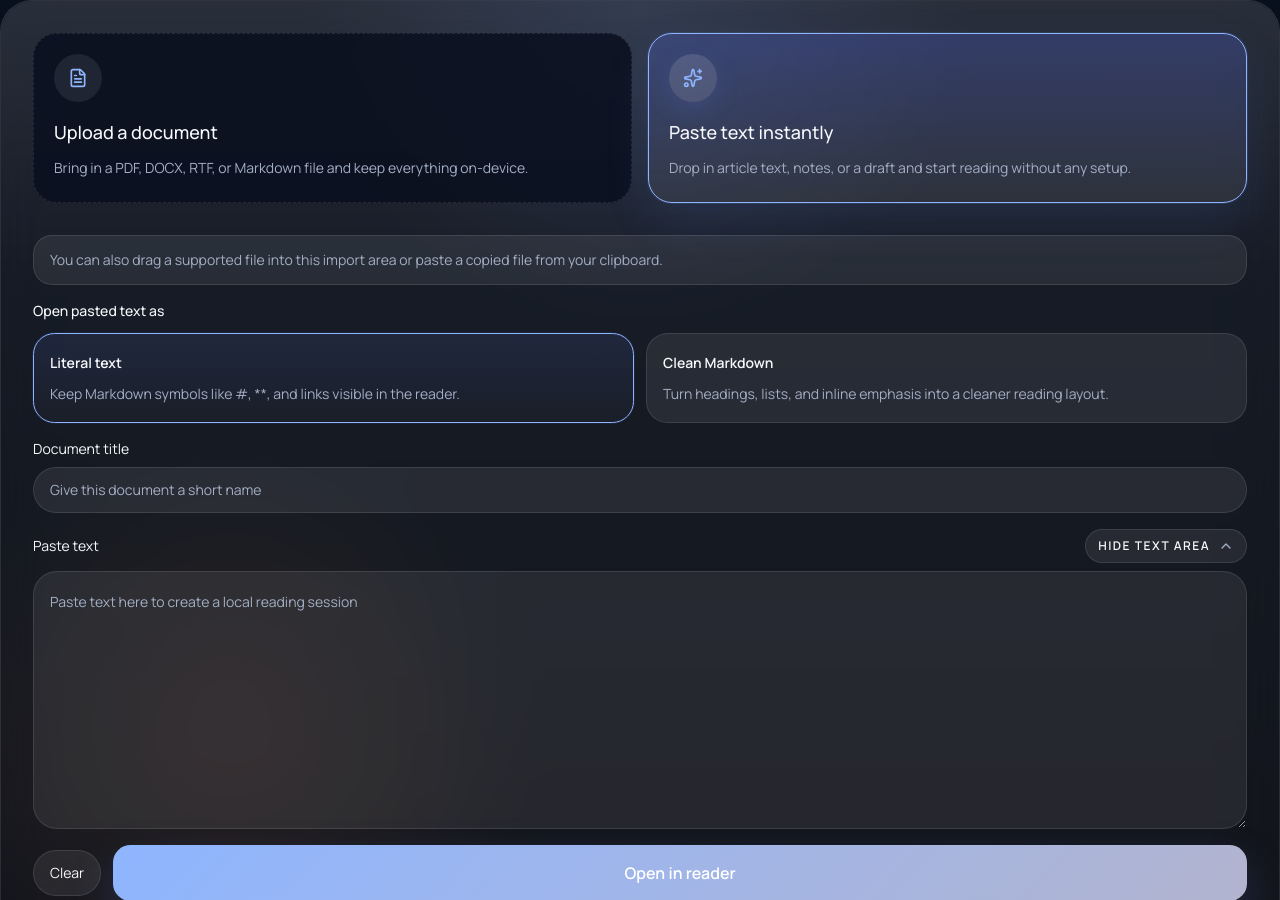
Test: UploadPanel › shows the saved goal as a recommended start before opening the reader
The width and height of the screenshot is (1280, 900).
Type "Dense reading rewards a calmer interface." into the text box labelled "Paste text".
click(640, 700); type("Dense reading rewards a calmer interface.")  # box 33,571 -> 1247,829
(page scrolled)
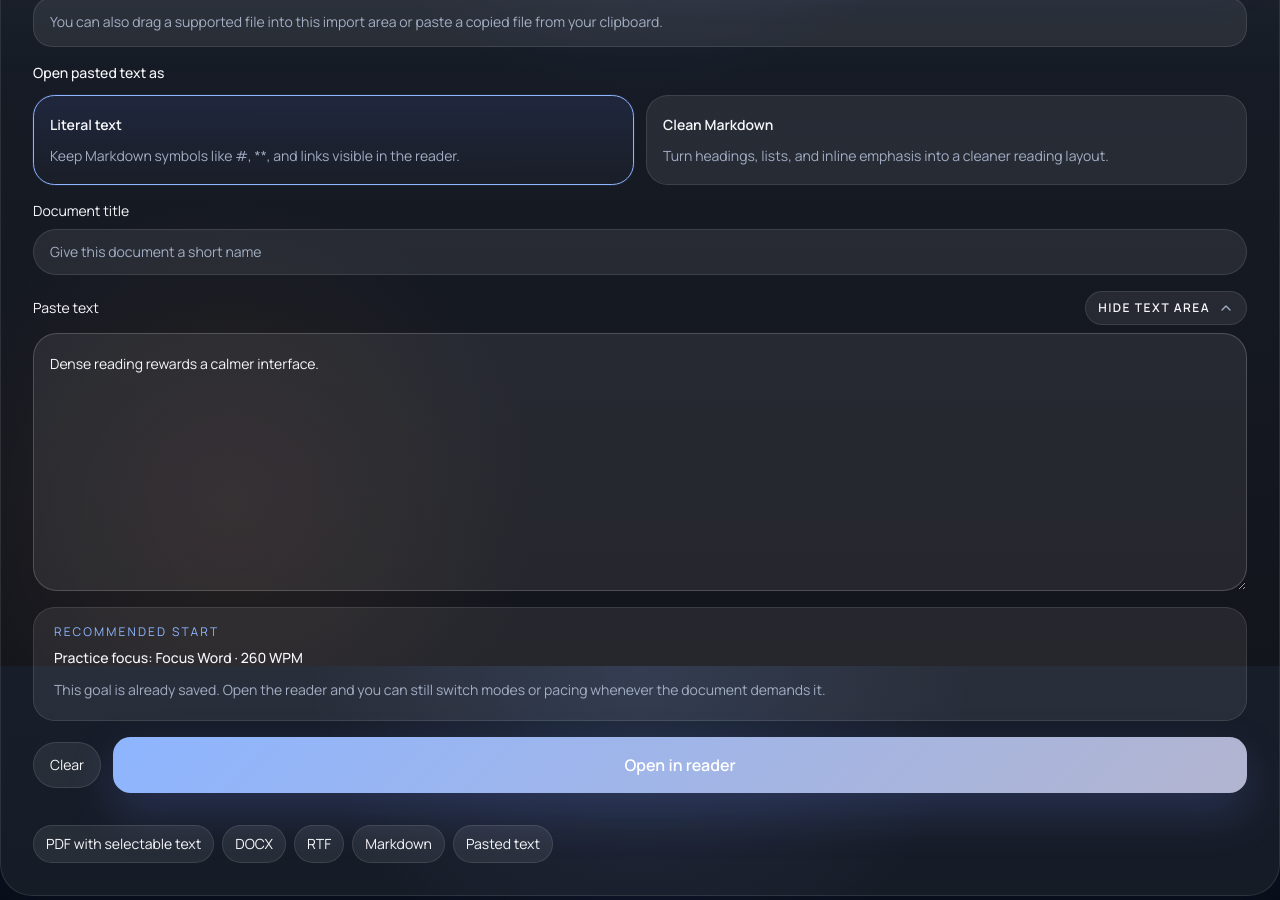
Expected: the text "Recommended start" is shown, 54,623 -> 219,640
Expected: the text "Practice focus: Focus Word · 260 WPM" is shown, 54,648 -> 303,667
